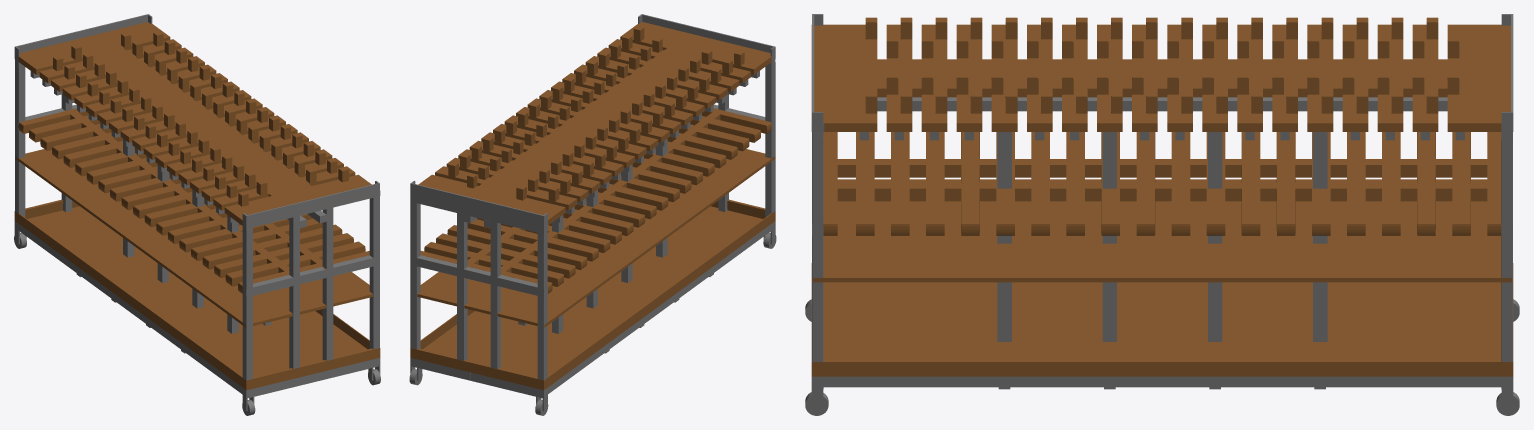
The model's file is PW4170Car.glb.
3 views of the same model, side by side, from view 1: azimuth 30°, elevation 25°; view 2: azimuth 150°, elevation 25°; view 3: azimuth 270°, elevation 25° (orthographic). The views are drawn at different scales.
Visible parts, largest first — view 1: 平面.008, Cube, 平面.001, 平面, 立方体.002, 立方体.003, 立方体, 立方体.001, 平面.010, 平面.013, 平面.003, 平面.002 (+5 smaller); view 2: 平面.008, Cube, 平面.001, 平面, 立方体.002, 立方体.003, 立方体, 立方体.001, 平面.010, 平面.003, 平面.013, 平面.002 (+6 smaller); view 3: Cube, 平面.008, 平面, 平面.001, 平面.003, 立方体.002, 立方体.003, 平面.013, 立方体.006, 立方体, 平面.004, 平面.005 (+3 smaller).
Boxes of the visible parts, x1,y1,x2,y2 form: 平面.008: (14, 22, 380, 228); Cube: (14, 199, 380, 390); 平面.001: (29, 115, 365, 286); 平面: (15, 149, 372, 327); 立方体.002: (53, 31, 348, 206); 立方体.003: (71, 32, 316, 195); 立方体: (15, 65, 379, 380); 立方体.001: (61, 94, 333, 385); 平面.010: (14, 14, 379, 222); 平面.013: (14, 221, 380, 397); 平面.003: (67, 109, 325, 273); 平面.002: (15, 104, 379, 297); 平面.008: (410, 22, 775, 228); Cube: (410, 199, 775, 390); 平面.001: (424, 116, 760, 286); 平面: (417, 149, 775, 327); 立方体.002: (448, 26, 744, 201); 立方体.003: (467, 37, 712, 200); 立方体: (410, 60, 775, 380); 立方体.001: (457, 94, 728, 385); 平面.010: (410, 14, 775, 222); 平面.003: (465, 108, 724, 275); 平面.013: (410, 221, 775, 397); 平面.002: (410, 104, 775, 297); Cube: (811, 263, 1513, 376); 平面.008: (811, 24, 1513, 131); 平面: (813, 179, 1511, 282); 平面.001: (856, 132, 1470, 235); 平面.003: (823, 159, 1501, 201); 立方体.002: (865, 17, 1438, 113); 立方体.003: (886, 36, 1459, 94); 平面.013: (811, 376, 1513, 387); 立方体.006: (997, 132, 1327, 341); 立方体: (812, 132, 1512, 361); 平面.004: (823, 132, 1501, 235); 平面.005: (877, 97, 1447, 111).
Size of the model in its own units: 1 by 1.47 by 3.06.
